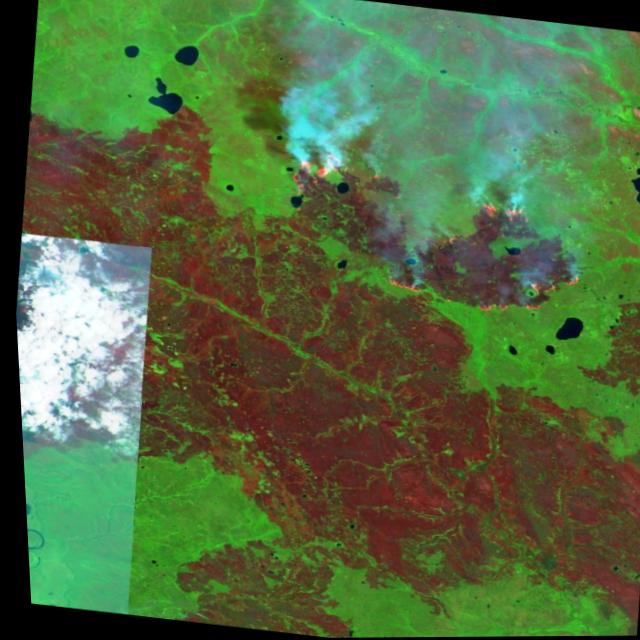fire: (260, 140, 598, 327)
